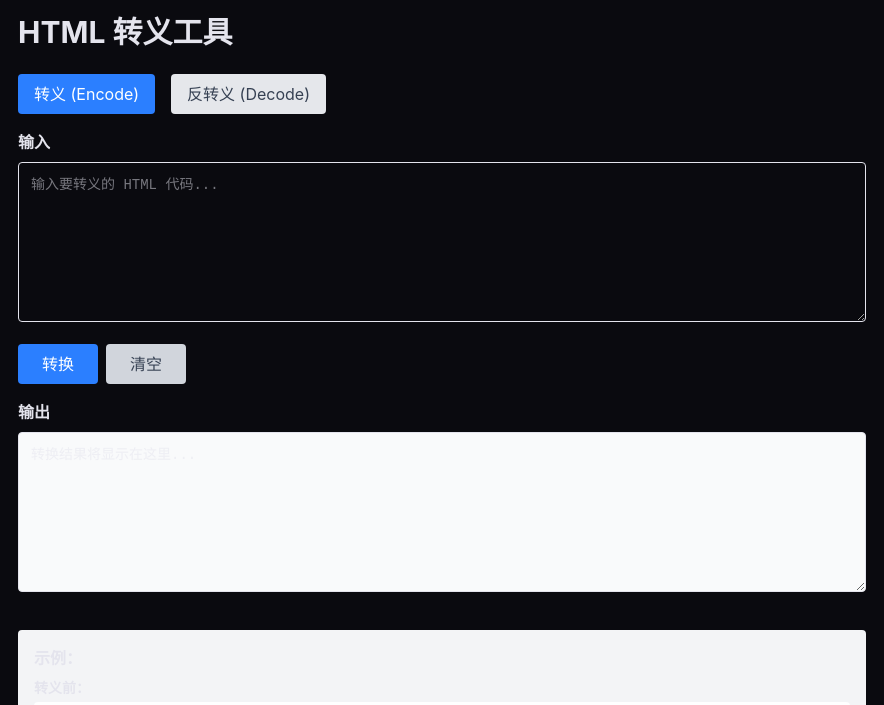
it: HtmlEscape › Actions › clears input and output
Click the text box with placeholder "输入要转义的 HTML 代码...".
click(442, 242)  # box [18, 162, 866, 322]
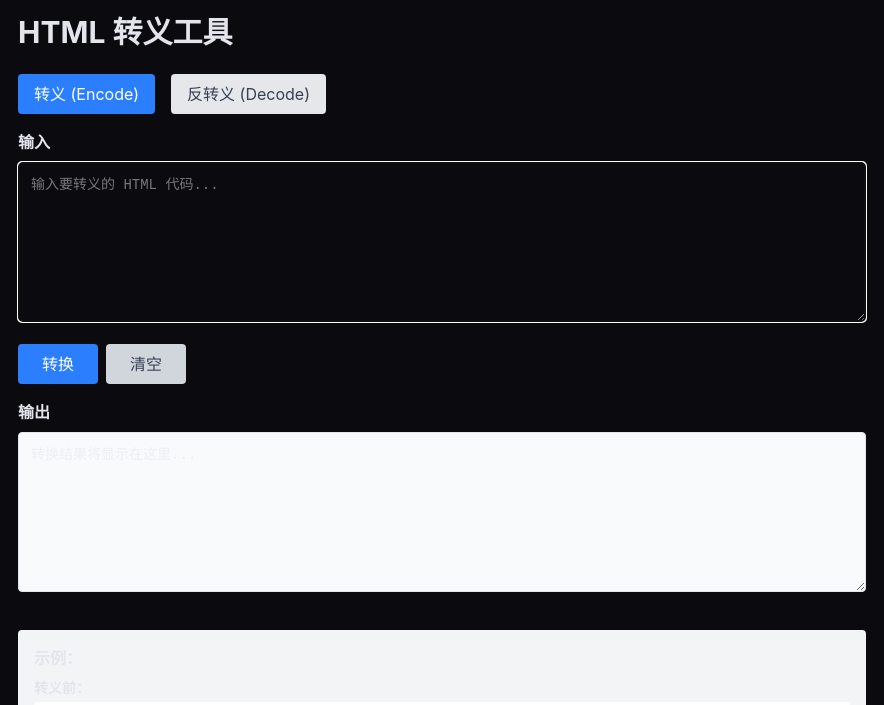
Type keys "<div>test</div>"
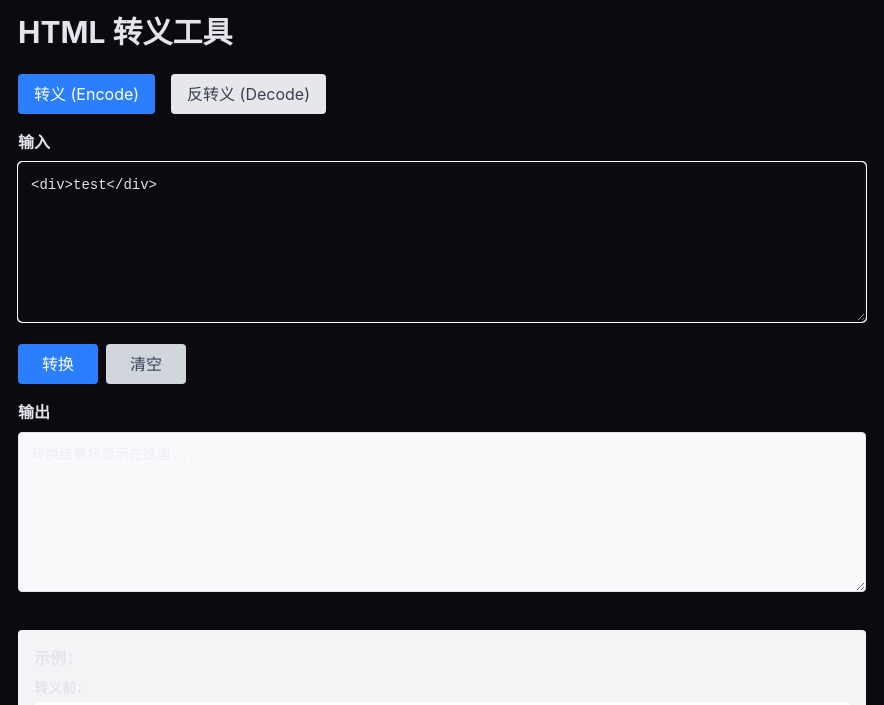
Click the button "转换".
click(58, 364)  # box [18, 344, 98, 384]
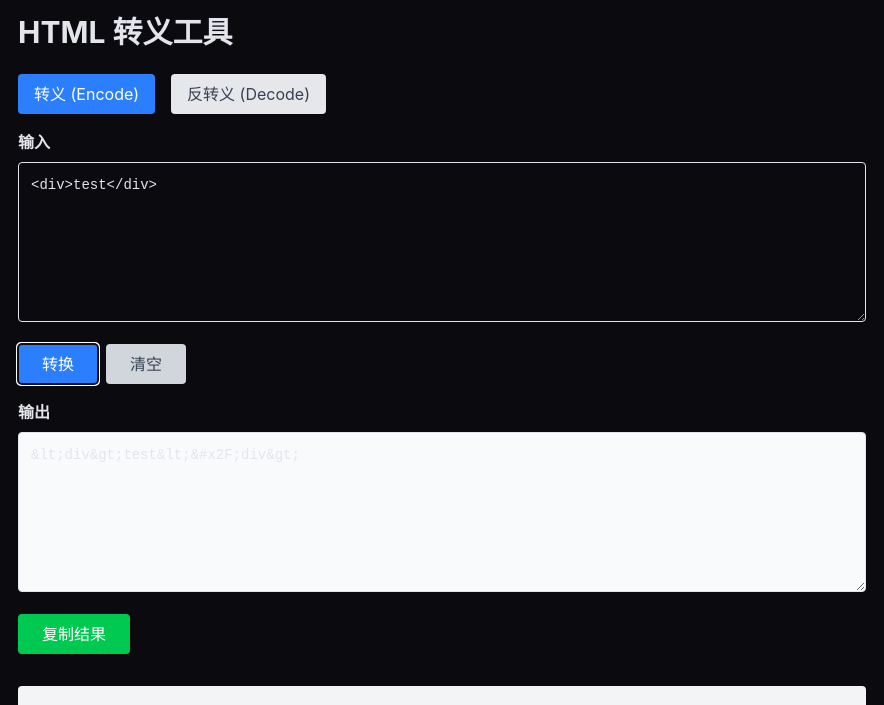
Click the button "清空".
click(146, 364)  # box [106, 344, 186, 384]
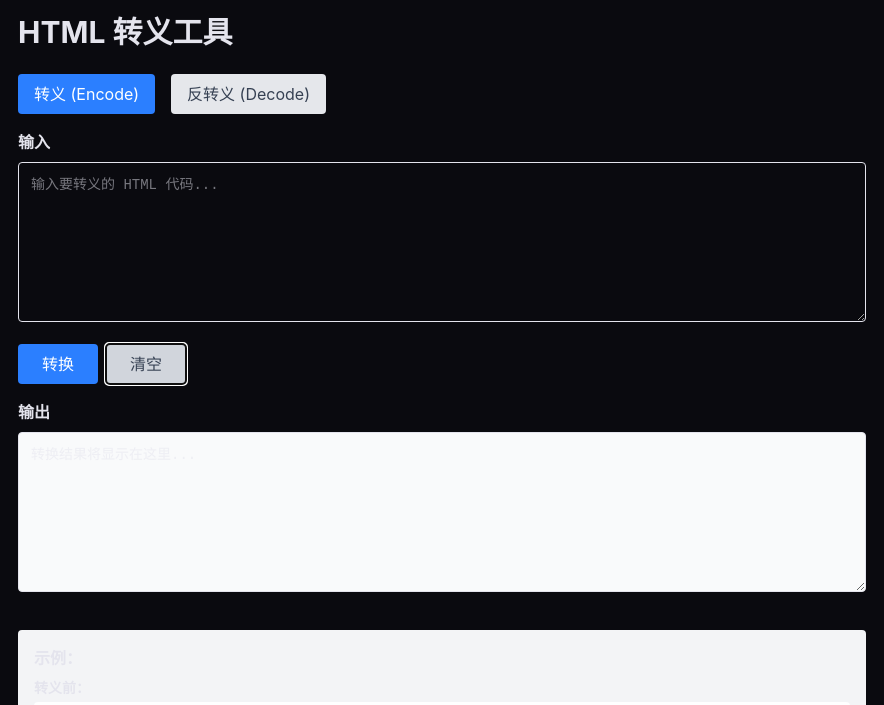
Expected: the text box with placeholder "转换结果将显示在这里..." is empty, [18, 432, 866, 592]
Result: the text box with placeholder "输入要转义的 HTML 代码..." is empty at [18, 162, 866, 322]
